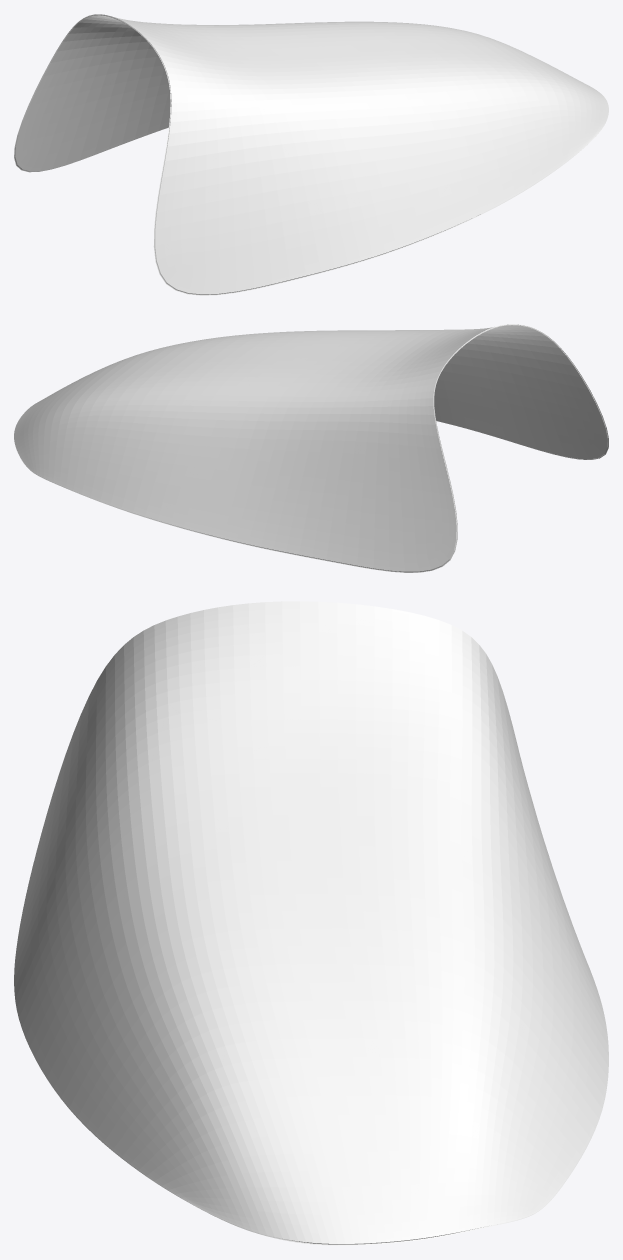
The model's file is frontRightWhite.obj.
3 renders of one model, top to bottom at view 1: azimuth 30°, elevation 25°; view 2: azimuth 150°, elevation 25°; view 3: azimuth 270°, elevation 25°, orthographic. The views are drawn at different scales.
Visible parts, largest first — view 1: Plane; view 2: Plane; view 3: Plane.
Part boxes in pixels (bbox=[...]): Plane: bbox=[14, 14, 608, 295]; Plane: bbox=[14, 324, 608, 572]; Plane: bbox=[14, 601, 608, 1245].
Size of the model in its own units: 14.6 by 5.14 by 9.
1 material, 1 textured.
